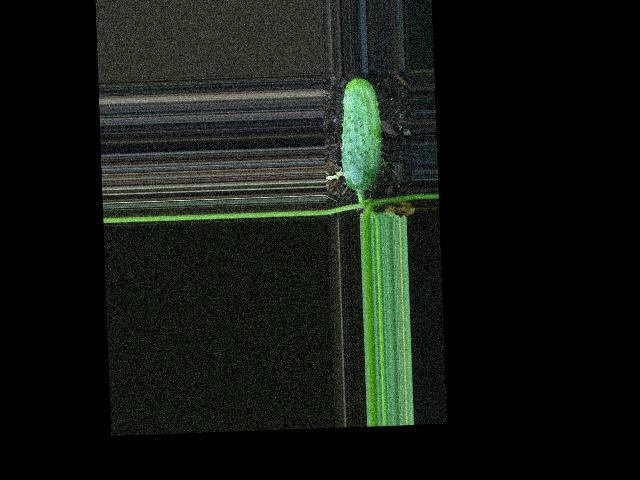cucumber: (338, 76, 383, 191)
